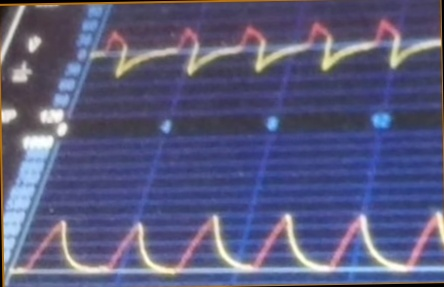Normal Flow: (92, 15, 439, 92)
Normal Volume: (16, 205, 444, 281)
